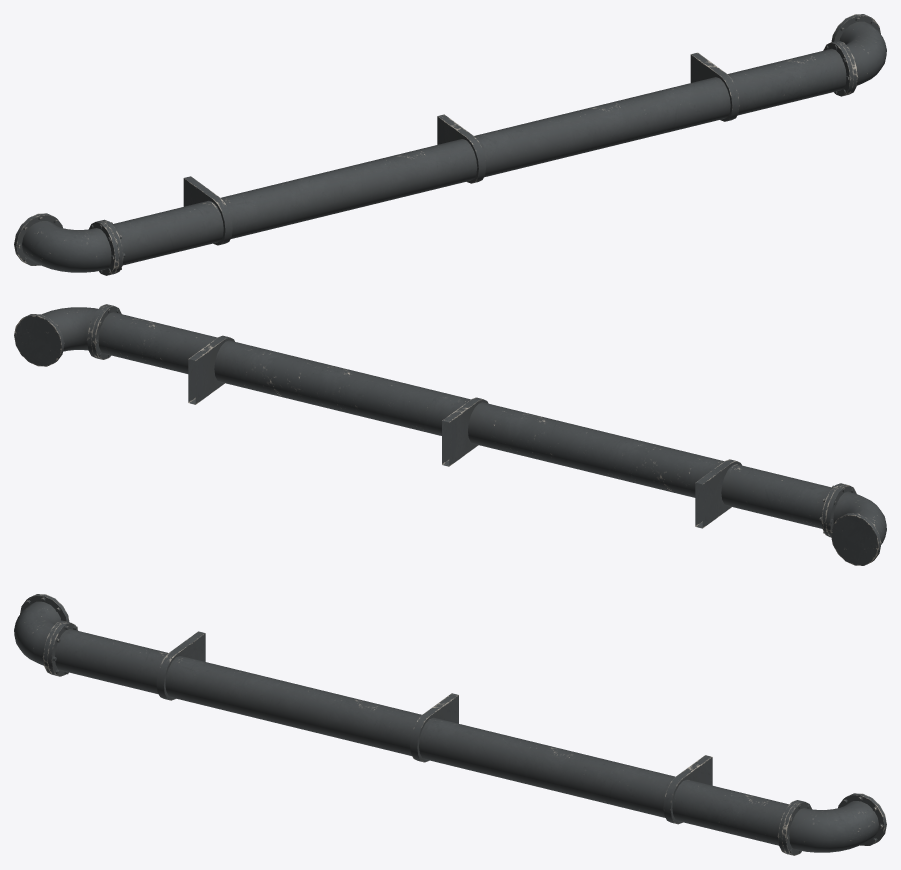
File: Pipe_Combinations_05.fbx
3 renders of one model, top to bottom at view 1: azimuth 30°, elevation 25°; view 2: azimuth 150°, elevation 25°; view 3: azimuth 330°, elevation 25°, orthographic.
Visible parts, largest first — view 1: LP_Big_Pipe.037; view 2: LP_Big_Pipe.037; view 3: LP_Big_Pipe.037.
Boxes of the visible parts, x1,y1,x2,y2 form: LP_Big_Pipe.037: (14, 14, 886, 275); LP_Big_Pipe.037: (14, 304, 886, 565); LP_Big_Pipe.037: (14, 594, 886, 855).
Size of the model in its own units: 478 by 26.48 by 41.34.
